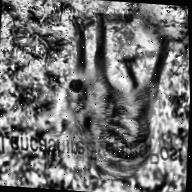boar: (42, 26, 179, 186)
